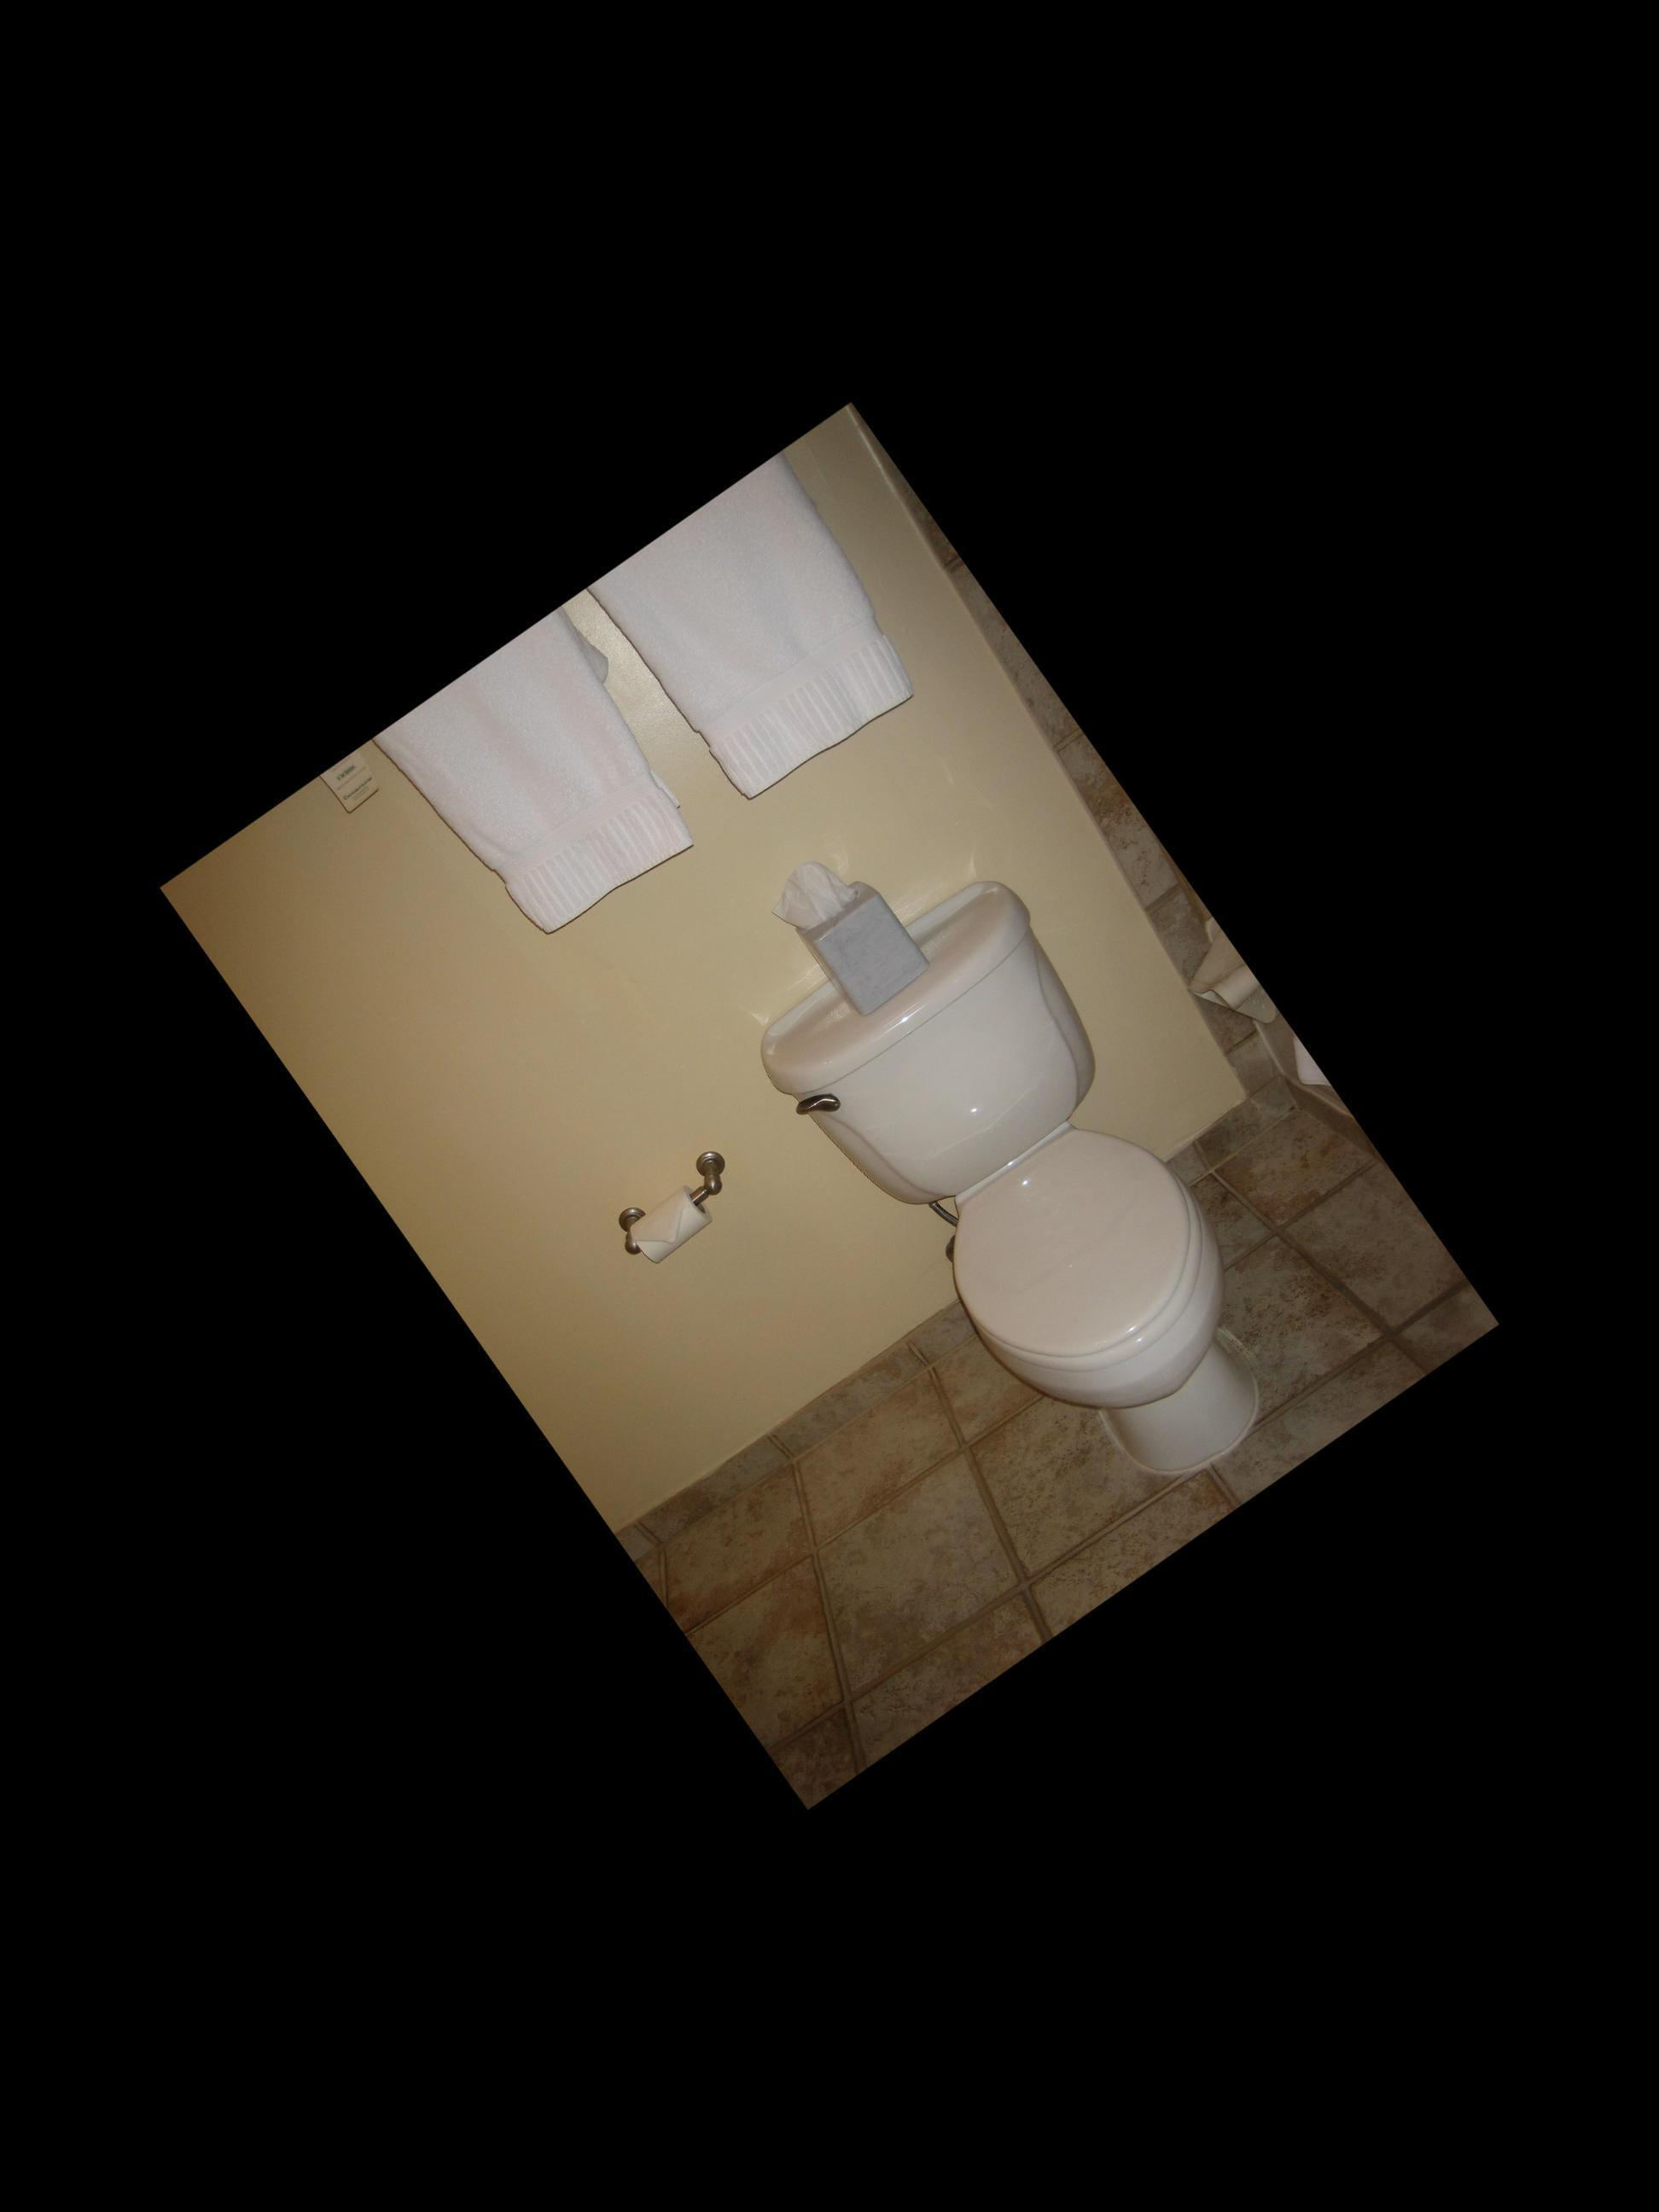Sanitario: (753, 874, 1358, 1547)
